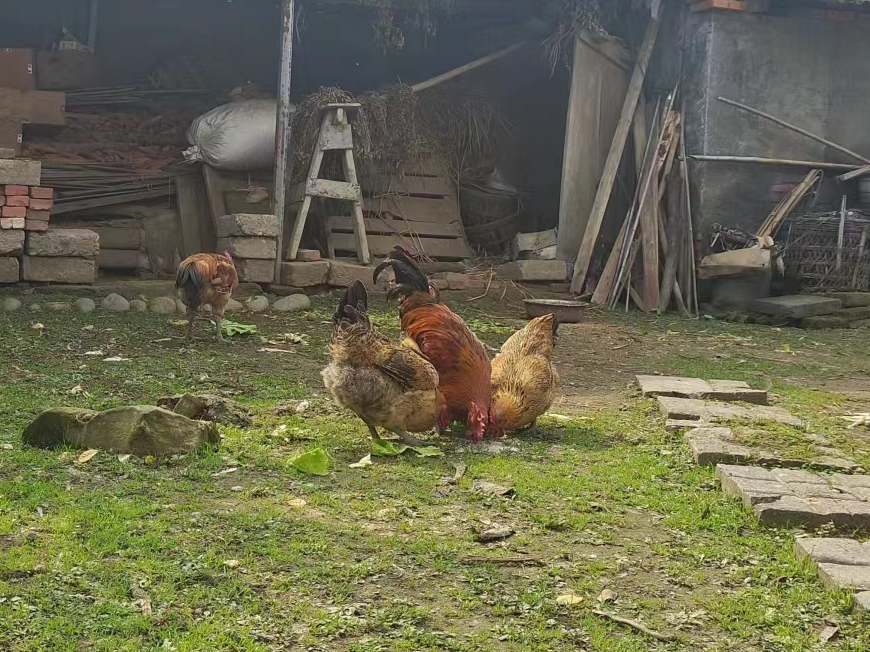chicken: (320, 278, 453, 447), (374, 245, 489, 438), (488, 312, 563, 436), (174, 251, 239, 344)
